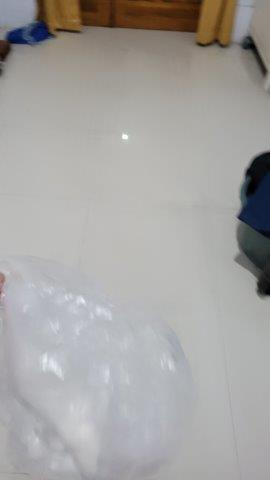plastik: (1, 253, 200, 475)
